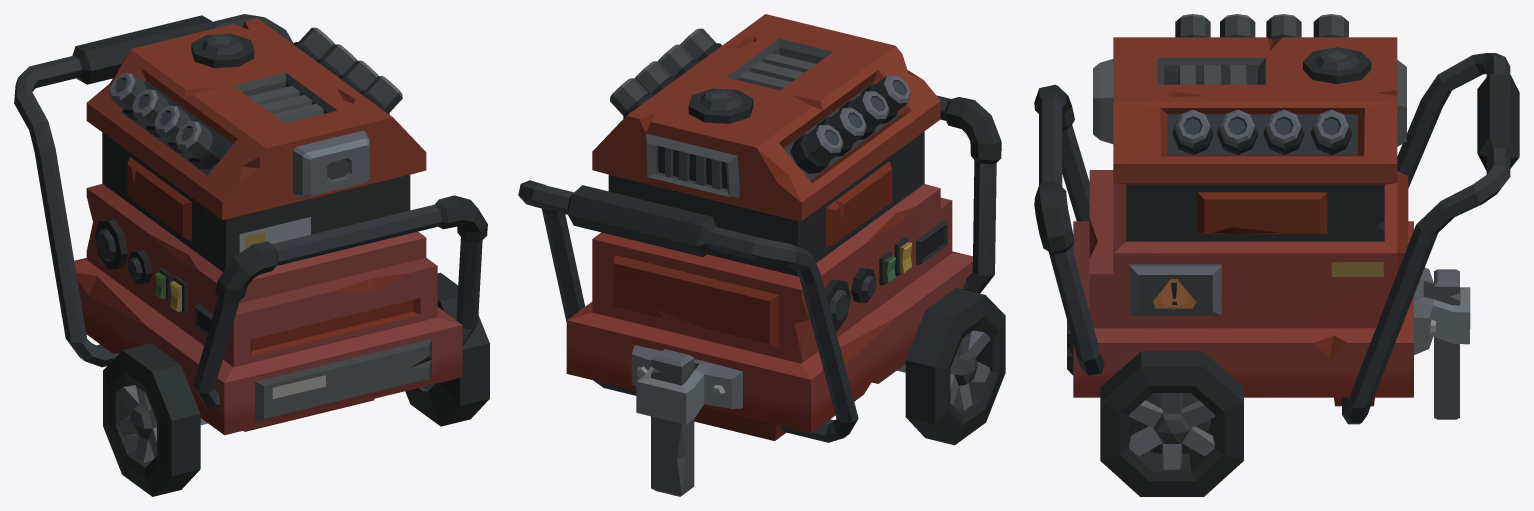
The model's file is SM_Prop_Generator_01.glb.
The picture shows the model from 3 angles, left to right: view 1: azimuth 30°, elevation 25°; view 2: azimuth 150°, elevation 25°; view 3: azimuth 270°, elevation 25°; orthographic projection. The views are drawn at different scales.
Visible parts, largest first — view 1: SM_Prop_Generator_01; view 2: SM_Prop_Generator_01; view 3: SM_Prop_Generator_01.
Part boxes in pixels (x1=…): SM_Prop_Generator_01: x1=14, y1=14, x2=489, y2=496; SM_Prop_Generator_01: x1=518, y1=14, x2=1005, y2=496; SM_Prop_Generator_01: x1=1034, y1=14, x2=1519, y2=496.
Bounding box in the file's own units: 76.33 × 77.81 × 94.29.
Materials: 1 (1 with a texture image).
